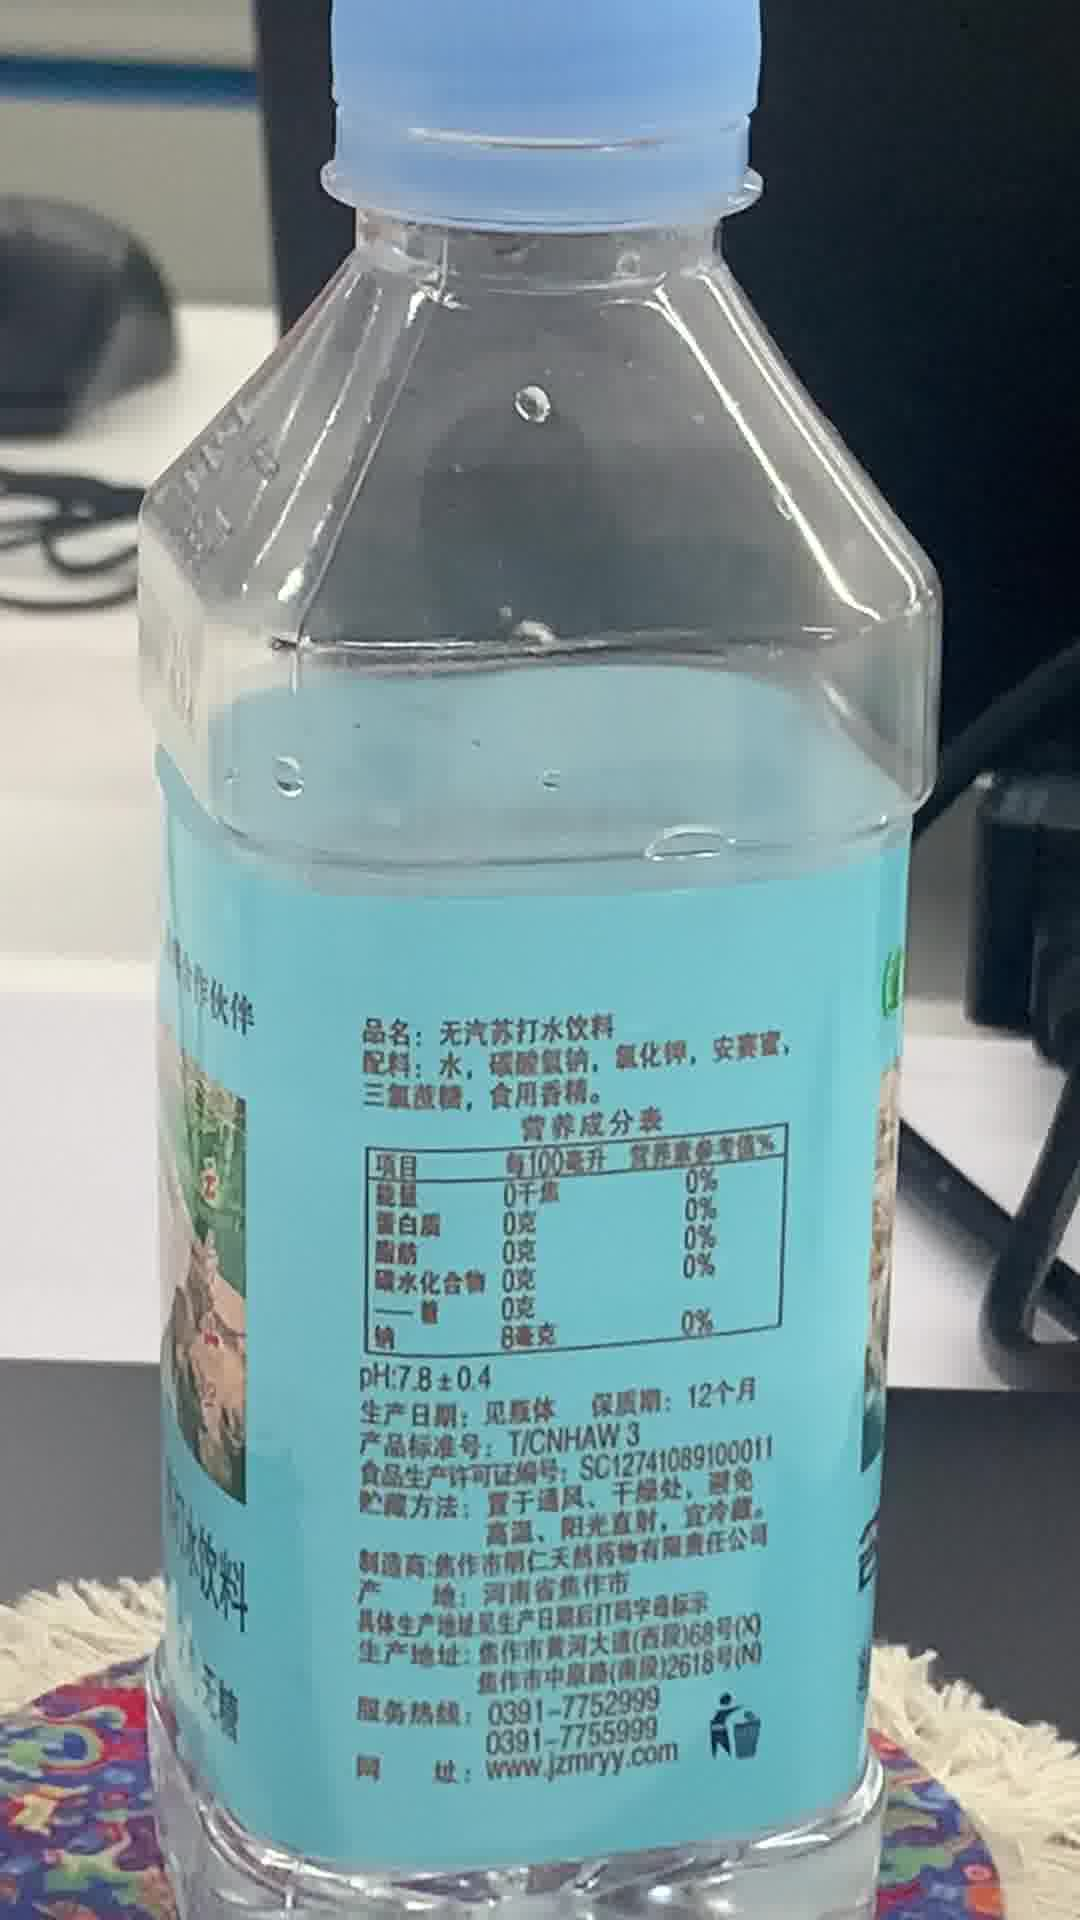水瓶: (112, 7, 902, 1913)
